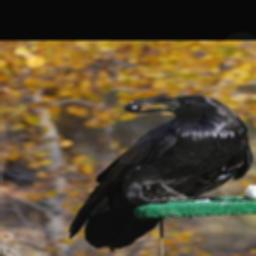Crow: (68, 94, 254, 251)
